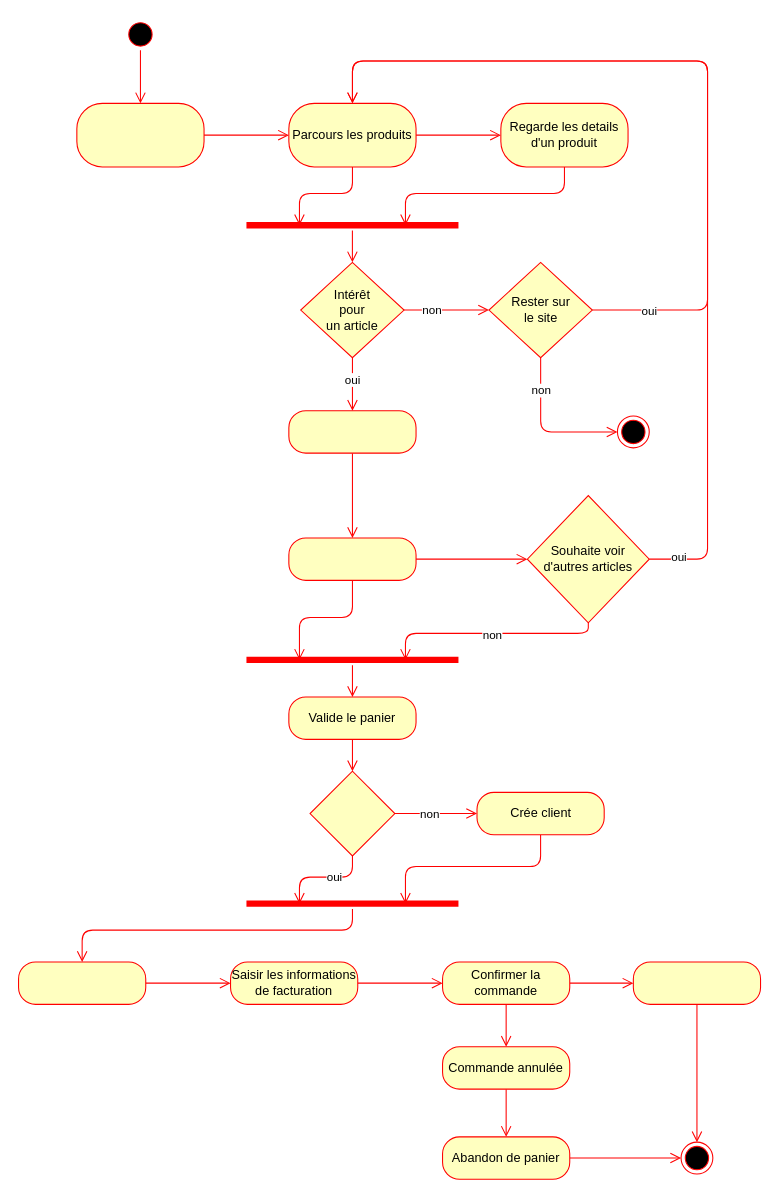
Image size: 779x1198. Some labels were removed from this diagram. The shapes that lost their labels are listed below. From the top down, each one's box as (x1, y1, x2, y2) in pixels, then its label:
(76, 102, 204, 167): Ouvre le site internet
(288, 410, 416, 453): Sélectionne la quantité
(288, 537, 416, 580): Ajoute au panier
(309, 770, 395, 856): Deja client
(17, 961, 146, 1004): Saisir les informations de livraison
(632, 961, 761, 1004): Commande confirmée
